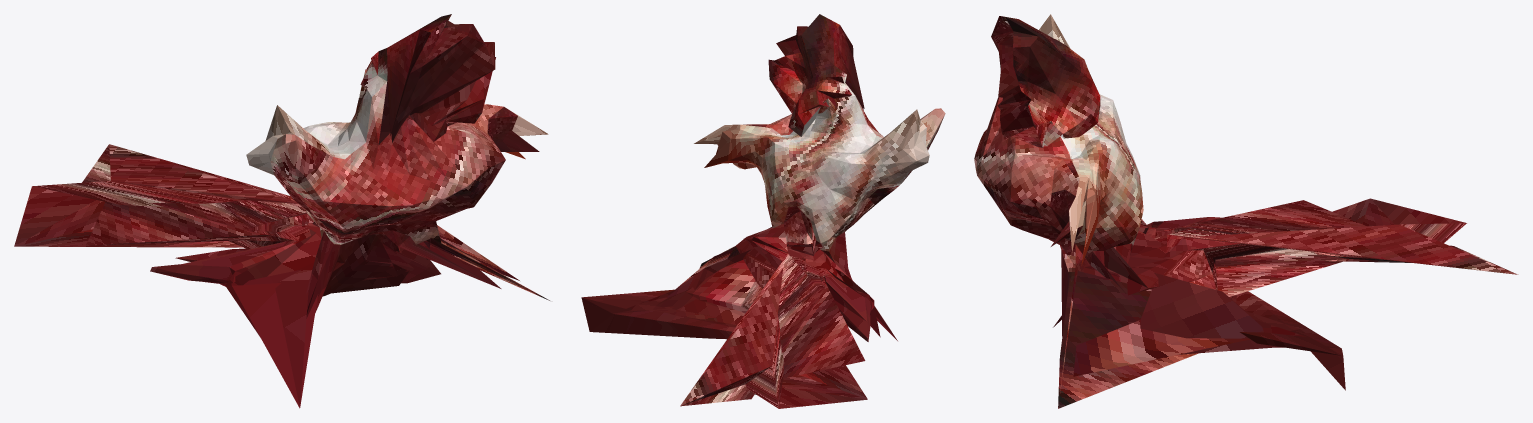
The model's file is corpse.glb.
3 views of the same model, side by side, from view 1: azimuth 30°, elevation 25°; view 2: azimuth 150°, elevation 25°; view 3: azimuth 270°, elevation 25° (orthographic). The views are drawn at different scales.
Parts seen in each view (by area): view 1: Icosphere; view 2: Icosphere; view 3: Icosphere.
Boxes of the visible parts, x1,y1,x2,y2 form: Icosphere: (14,14,549,408); Icosphere: (581,14,945,408); Icosphere: (974,14,1518,408).
Bounding box in the file's own units: 5.09 × 4.76 × 6.3.
Materials: 1 (1 with a texture image).
